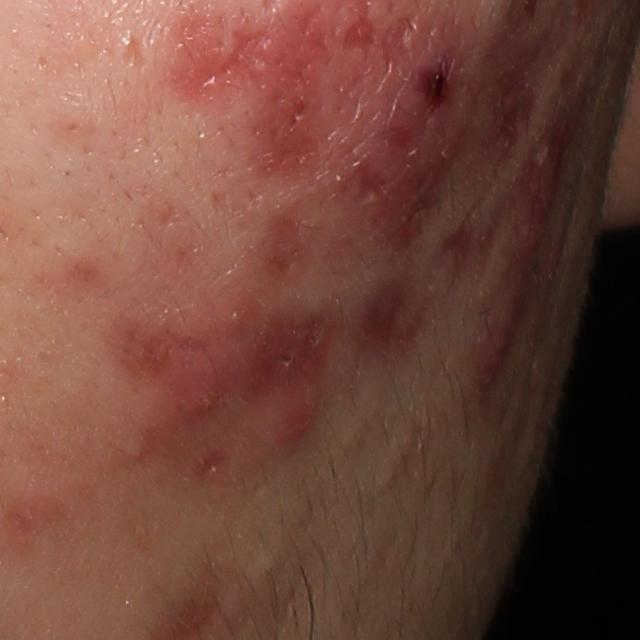atrophic_scar: (193, 28, 312, 89), (354, 153, 390, 201), (123, 38, 149, 72)
nodule: (333, 19, 474, 245)
papule: (518, 117, 559, 256), (481, 289, 528, 377), (171, 369, 226, 424), (210, 292, 264, 341), (268, 400, 317, 453)
